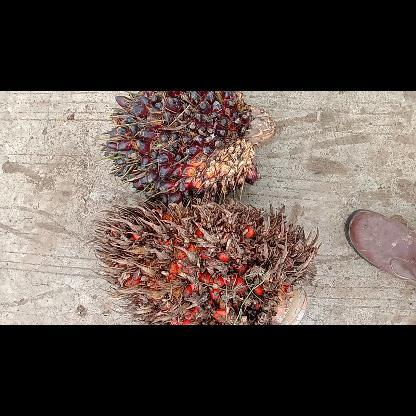TBS mentah: (100, 91, 276, 204)
Terlalu masak: (91, 198, 319, 324)
